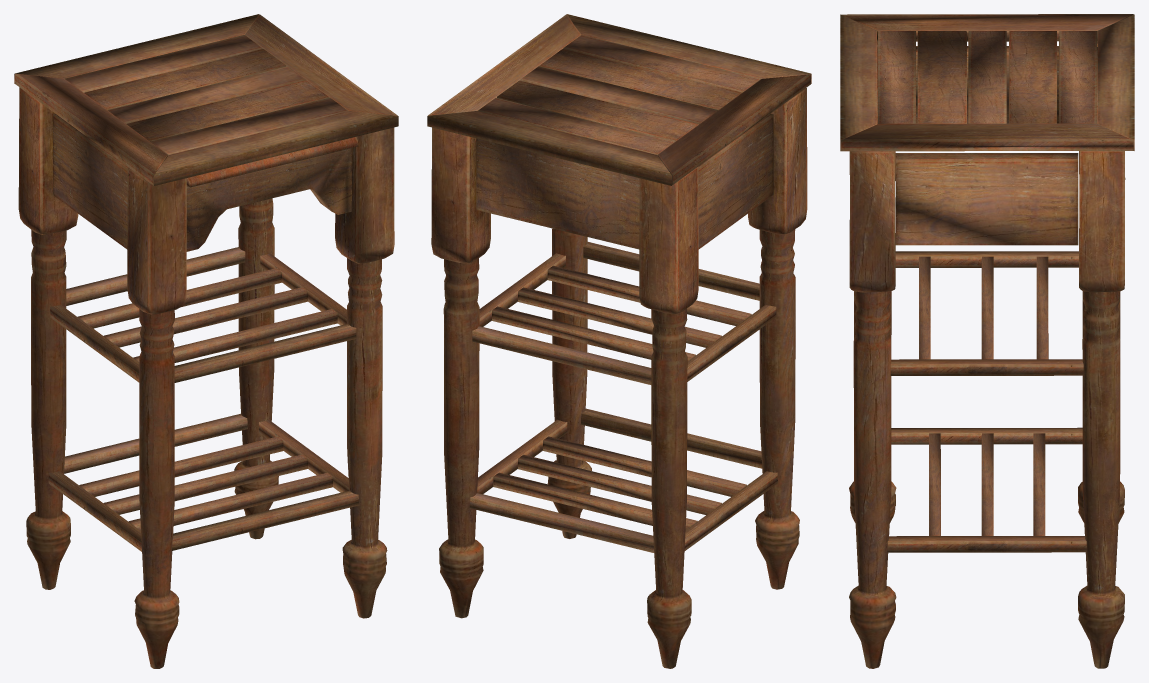
File: Utilitarian Wooden Bedside Washstand.001.fbx
3 renders of one model, left to right at view 1: azimuth 30°, elevation 25°; view 2: azimuth 150°, elevation 25°; view 3: azimuth 270°, elevation 25°, orthographic. The views are drawn at different scales.
Visible parts, largest first — view 1: Utilitarian Wooden Bedside Washstand.001; view 2: Utilitarian Wooden Bedside Washstand.001; view 3: Utilitarian Wooden Bedside Washstand.001.
Part boxes in pixels (left/top/right/bottom): Utilitarian Wooden Bedside Washstand.001: left=14, top=14, right=398, bottom=668; Utilitarian Wooden Bedside Washstand.001: left=427, top=14, right=811, bottom=668; Utilitarian Wooden Bedside Washstand.001: left=840, top=14, right=1134, bottom=668.
Bounding box in the file's own units: 36.14 × 71.05 × 35.41.
Materials: 1 (1 with a texture image).
